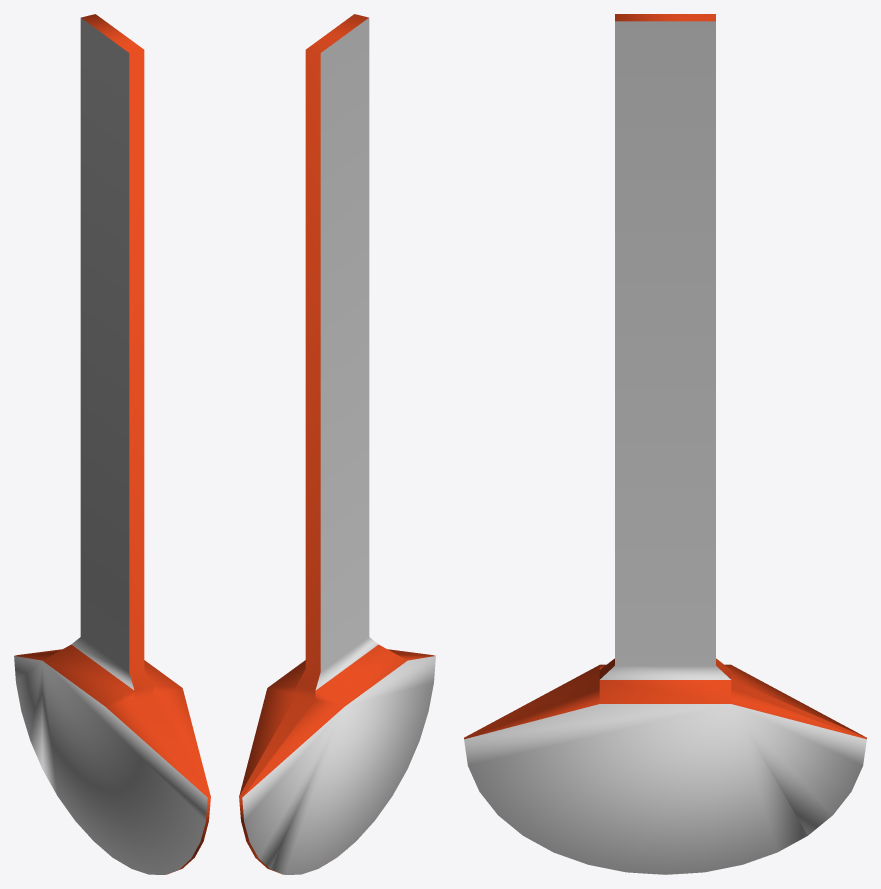
File: engel1212.fbx
3 views of the same model, side by side, from view 1: azimuth 30°, elevation 25°; view 2: azimuth 150°, elevation 25°; view 3: azimuth 270°, elevation 25° (orthographic). The views are drawn at different scales.
Visible parts, largest first — view 1: Circle; view 2: Circle; view 3: Circle.
Boxes of the visible parts, box(x1,y1,x2,y2) form: Circle: box(14, 14, 210, 874); Circle: box(239, 14, 435, 874); Circle: box(464, 14, 866, 874).
Bounding box in the file's own units: 96.95 × 989 × 421.
